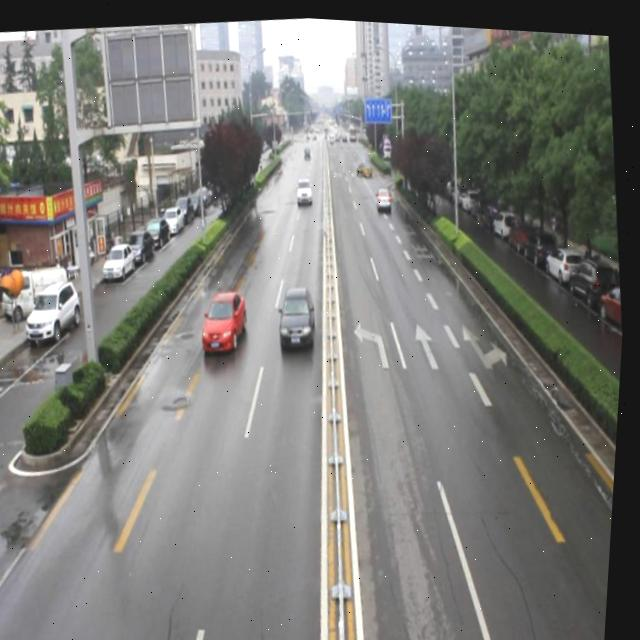car: (201, 281, 256, 355), (277, 278, 323, 346), (295, 172, 315, 204), (374, 177, 395, 207), (354, 150, 375, 175)
